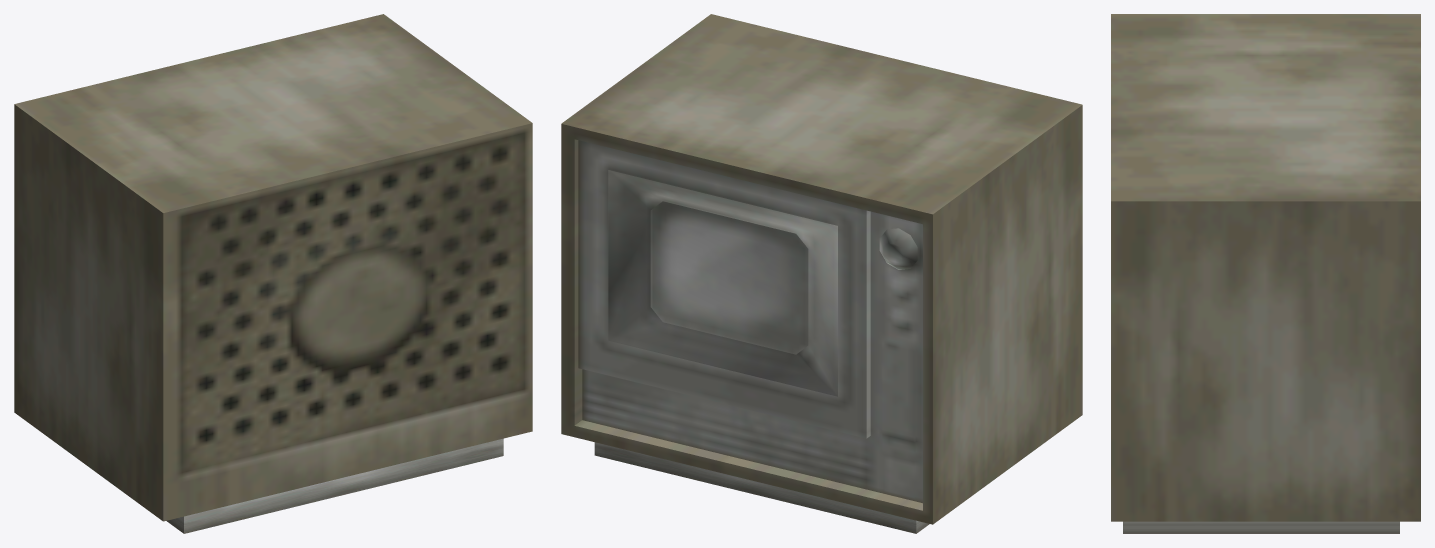
File: tv.ico.obj
3 renders of one model, left to right at view 1: azimuth 30°, elevation 25°; view 2: azimuth 150°, elevation 25°; view 3: azimuth 270°, elevation 25°, orthographic. The views are drawn at different scales.
Size of the model in its own units: 2.55 by 2.18 by 1.78.
Materials: 1 (1 with a texture image).
